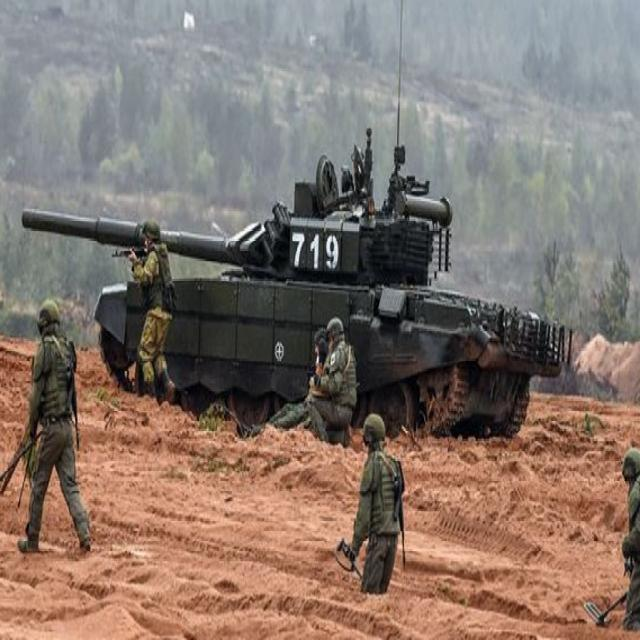TANK: (20, 121, 574, 442)
